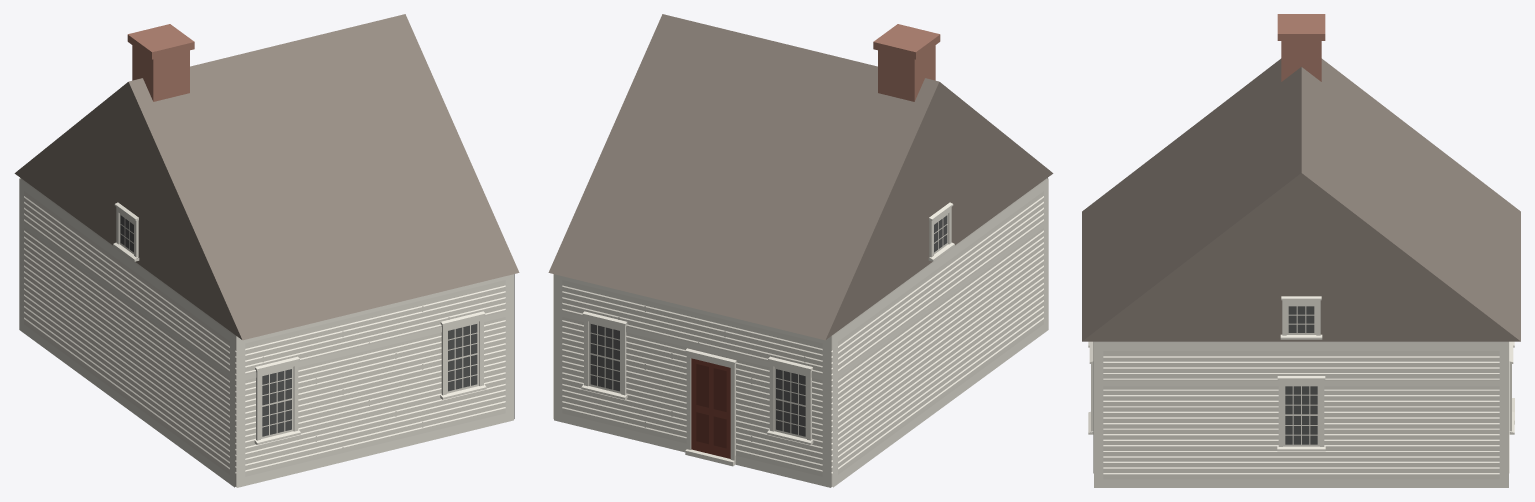
Rendered from recon_1835_blk_school_section_tier_81_d6_06__inferred_1835.glb.
3 views of the same model, side by side, from view 1: azimuth 30°, elevation 25°; view 2: azimuth 150°, elevation 25°; view 3: azimuth 270°, elevation 25° (orthographic). The views are drawn at different scales.
Parts seen in each view (by area): view 1: recon_1835_blk_school_section_tier_81_d6_06__inferred_1835; view 2: recon_1835_blk_school_section_tier_81_d6_06__inferred_1835; view 3: recon_1835_blk_school_section_tier_81_d6_06__inferred_1835.
Boxes of the visible parts, x1=… form: recon_1835_blk_school_section_tier_81_d6_06__inferred_1835: x1=14, y1=14, x2=519, y2=487; recon_1835_blk_school_section_tier_81_d6_06__inferred_1835: x1=548, y1=14, x2=1053, y2=487; recon_1835_blk_school_section_tier_81_d6_06__inferred_1835: x1=1082, y1=14, x2=1520, y2=487.
Size of the model in its own units: 6.59 by 7.96 by 9.08.
